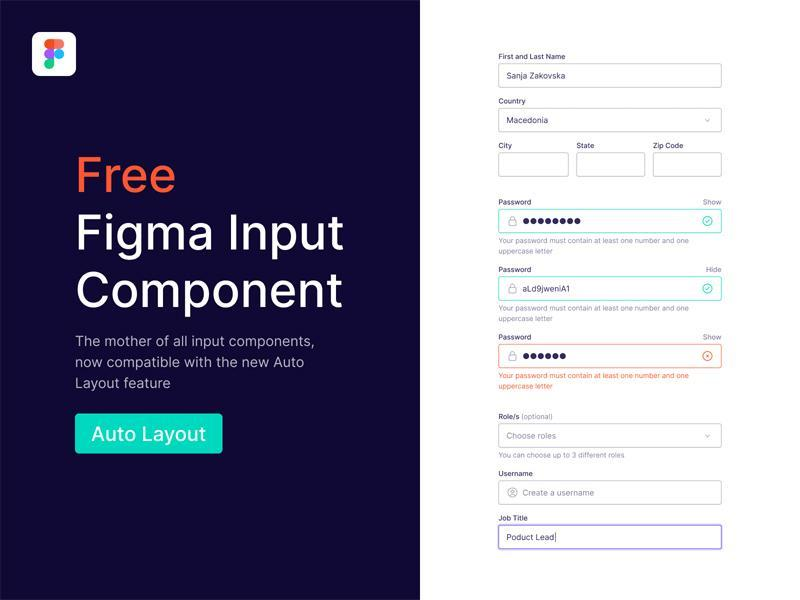button: (77, 415, 224, 454)
dropdown: (499, 109, 723, 134), (499, 426, 722, 449)
input: (499, 63, 723, 90), (499, 211, 724, 237), (500, 481, 723, 506), (500, 526, 723, 551), (500, 278, 721, 301), (500, 346, 724, 368), (577, 152, 646, 177), (655, 152, 723, 177), (499, 154, 570, 176)
label: (497, 49, 569, 63), (498, 411, 557, 421), (494, 261, 536, 274), (653, 140, 686, 152), (493, 199, 536, 208), (497, 95, 529, 106), (497, 333, 536, 342), (496, 514, 533, 522), (497, 472, 536, 478), (576, 140, 596, 151), (500, 140, 516, 151)
